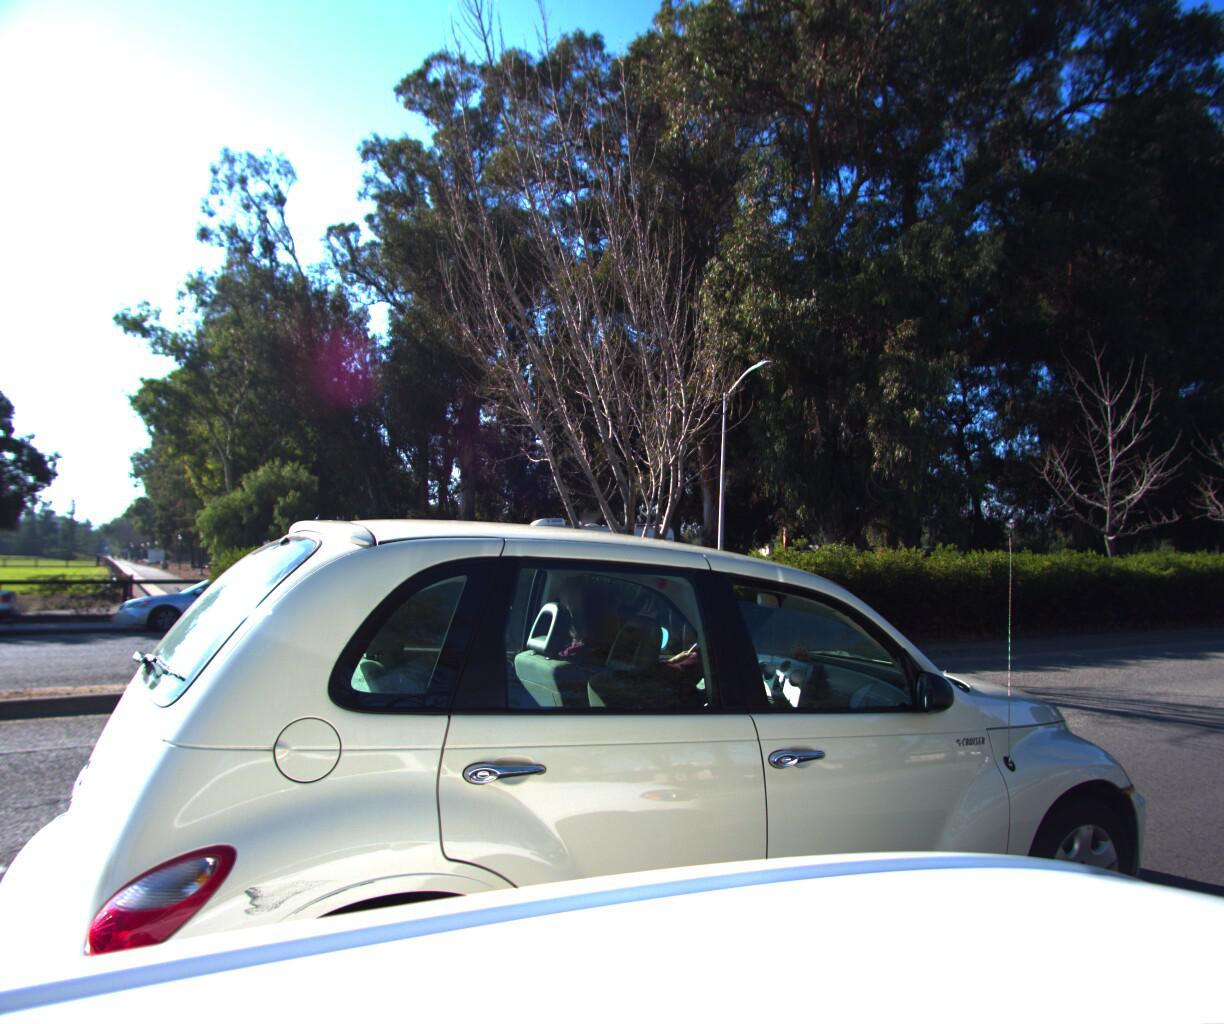car: (0, 455, 1224, 1024), (103, 576, 319, 643), (0, 573, 28, 658)
other_vehicle: (369, 502, 692, 634)
